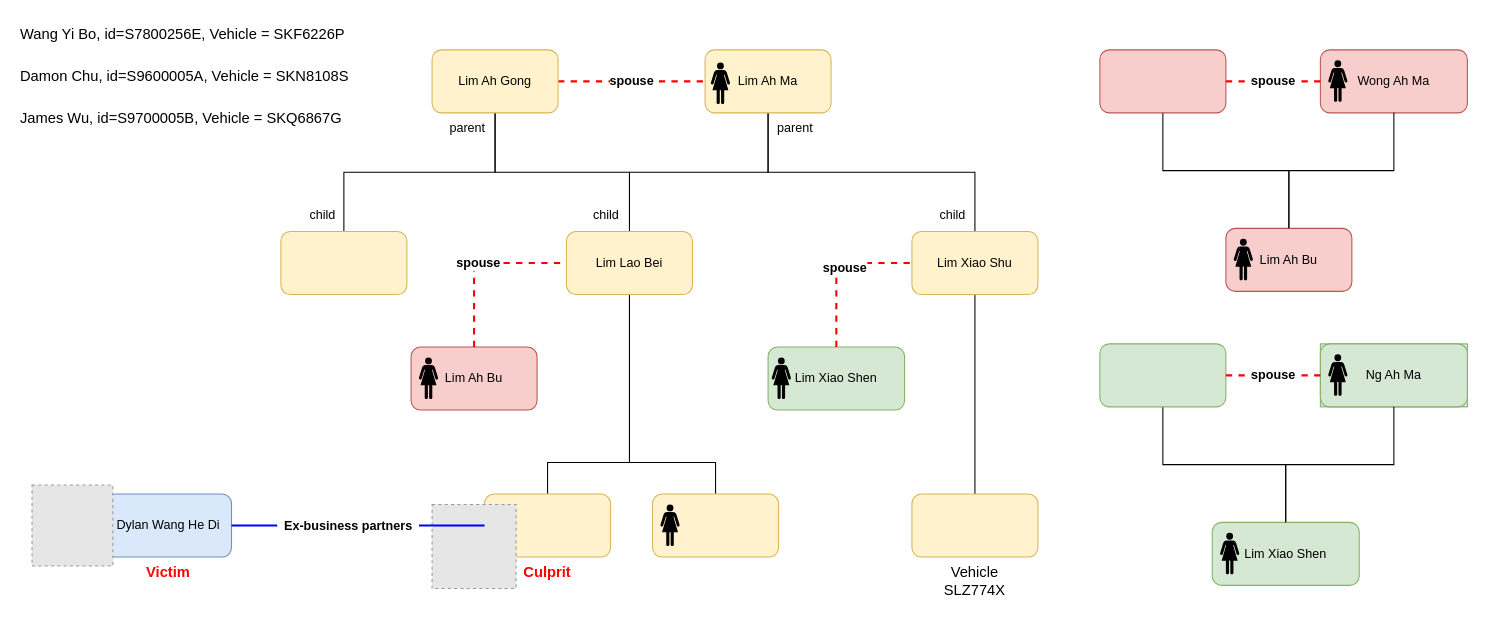
Some shapes in this 1486 by 627 pixel diagram are drawn without their labels. Grey dashed boxes stand in for pictures. Each missing label, with the box of its shape:
Lim Ah Pei: (280, 230, 407, 295)
Lim Dua Ji: (652, 493, 779, 557)
Lim Xiao Ming: (911, 493, 1038, 557)
Lim Xiao Zhan: (484, 493, 611, 557)
Ng Ah Gong: (1099, 343, 1226, 407)
Wong Ah Gong: (1099, 49, 1226, 113)
